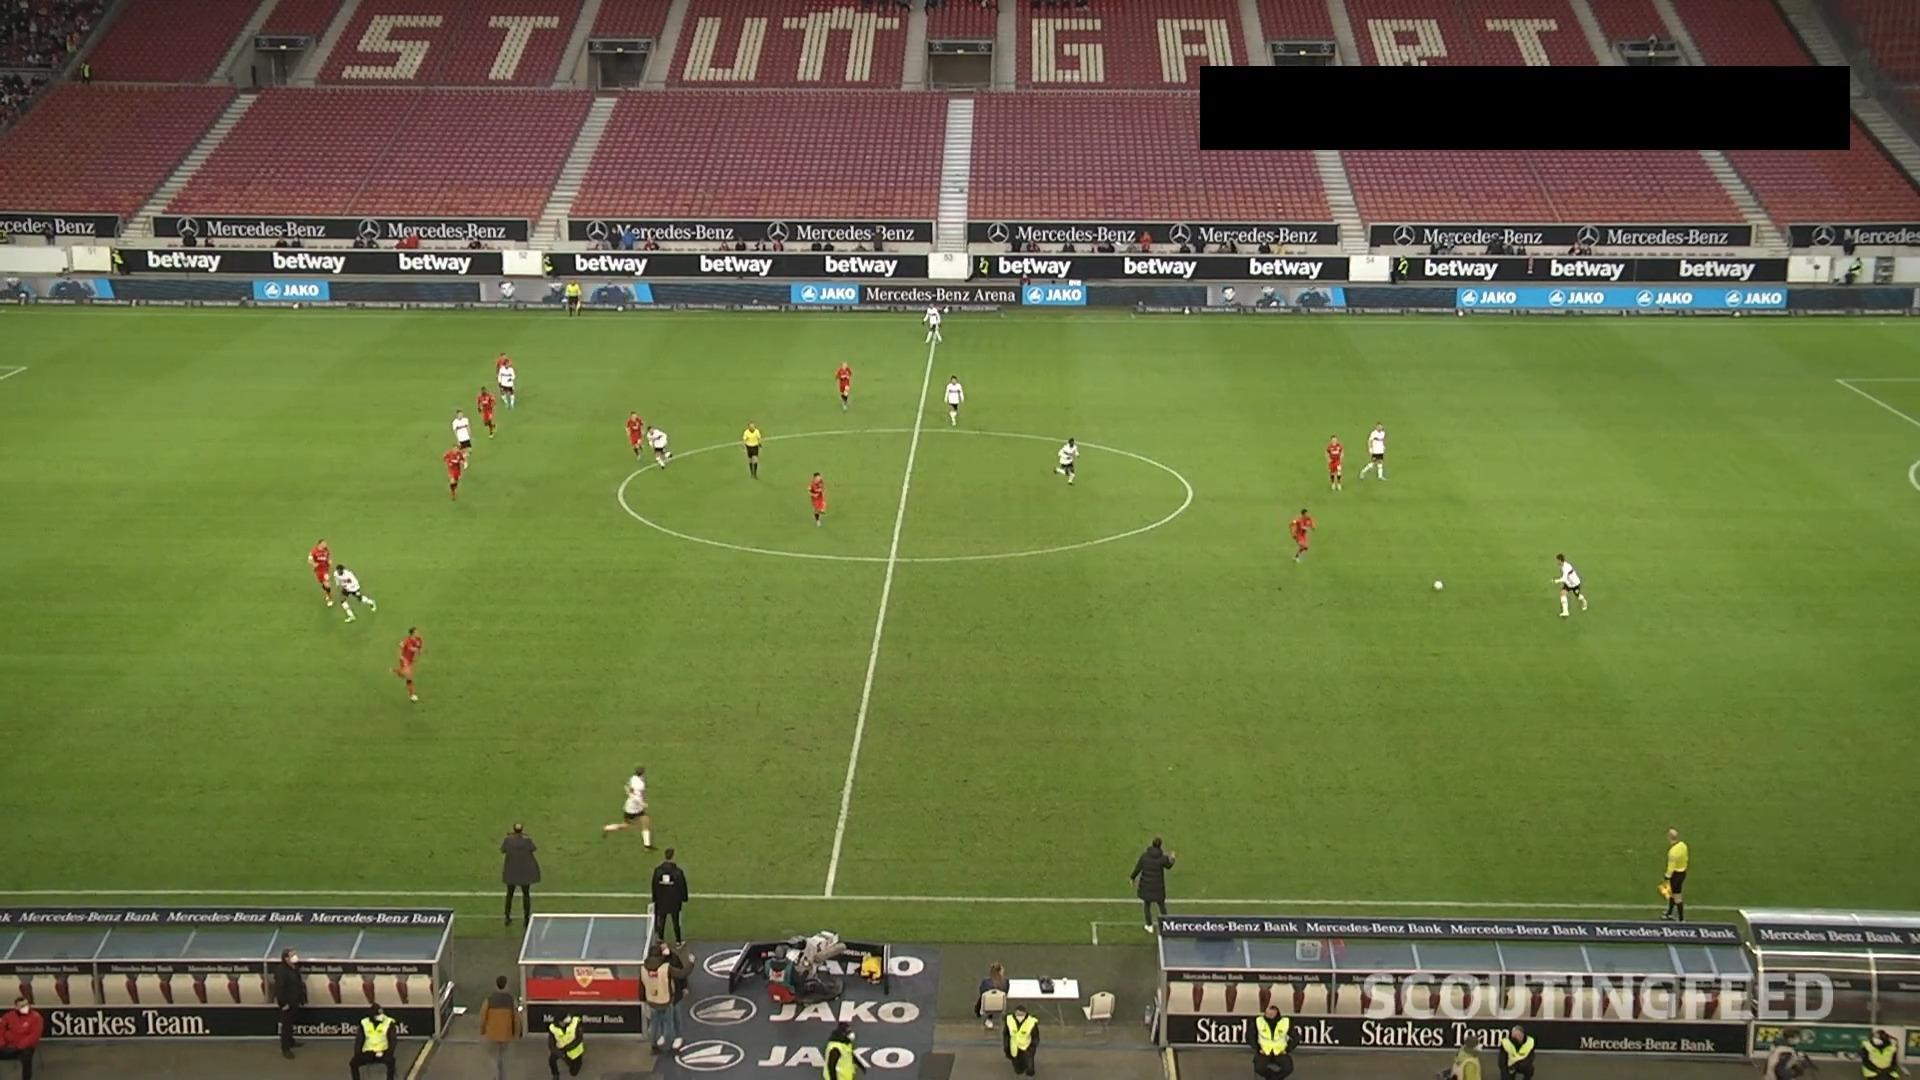ball: (1432, 579, 1445, 592)
